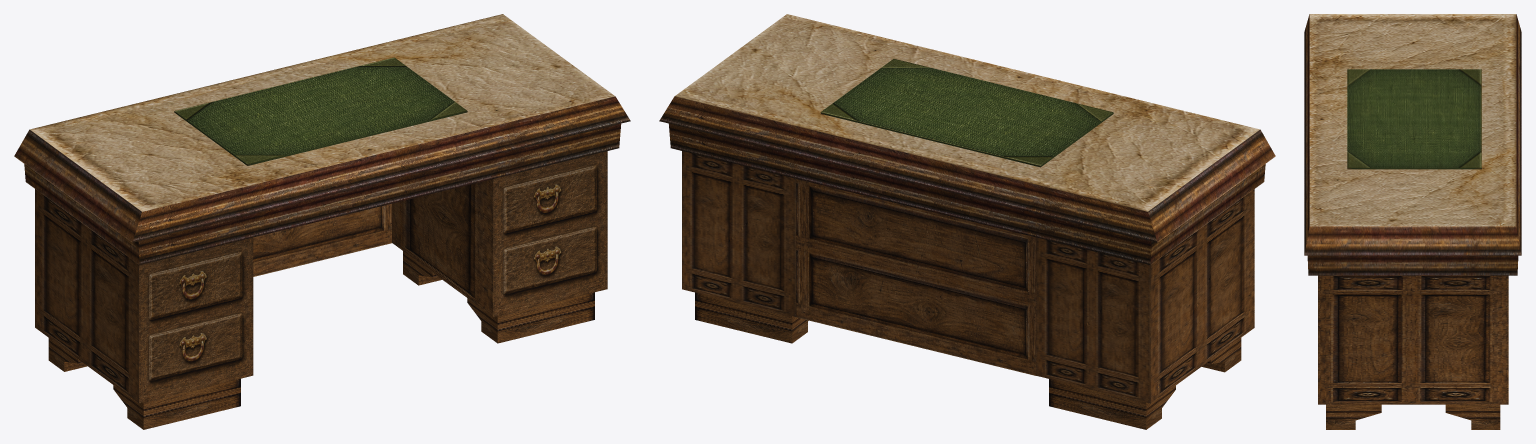
Rendered from mm9_deco_desk01.glb.
The picture shows the model from 3 angles, left to right: view 1: azimuth 30°, elevation 25°; view 2: azimuth 150°, elevation 25°; view 3: azimuth 270°, elevation 25°; orthographic projection. The views are drawn at different scales.
Visible parts, largest first — view 1: Desk01; view 2: Desk01; view 3: Desk01.
Part boxes in pixels (x1,y1,x2,y2): Desk01: (14, 14, 630, 429); Desk01: (659, 14, 1275, 429); Desk01: (1304, 14, 1521, 429).
Bounding box in the file's own units: 2.76 × 1.21 × 1.13.
2 materials, 2 textured.
